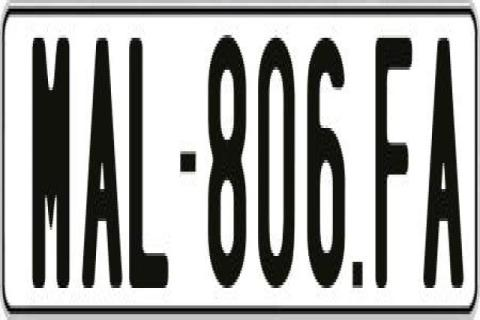0: (206, 32, 248, 300), (256, 38, 298, 291), (306, 29, 346, 294)
A: (81, 32, 125, 285), (420, 29, 462, 279)
F: (376, 32, 416, 294)
L: (128, 35, 171, 285)
M: (30, 32, 73, 300)
